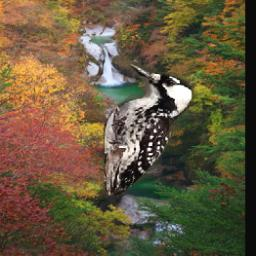Woodpecker: (104, 62, 197, 195)
